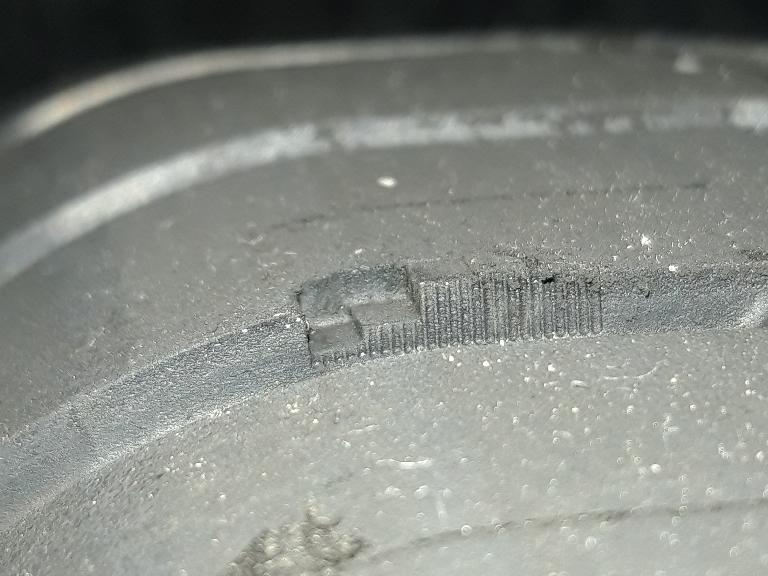temoin:50: (274, 246, 498, 386)
